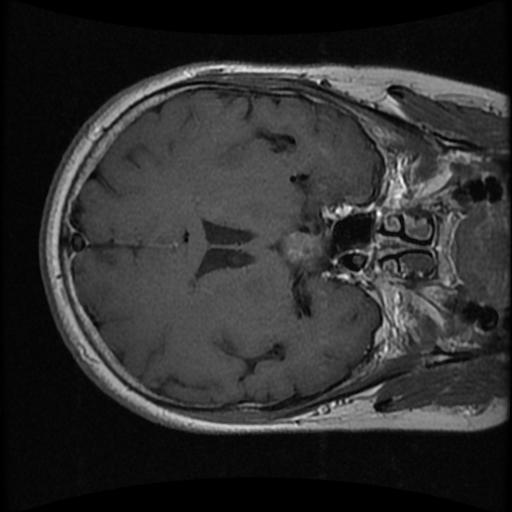pituitary tumour: (279, 230, 323, 270)
